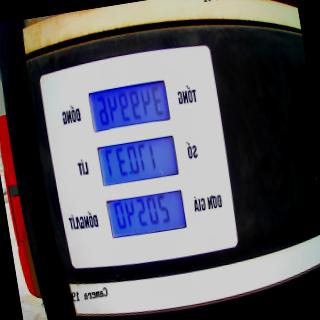screen: (86, 75, 190, 244)
